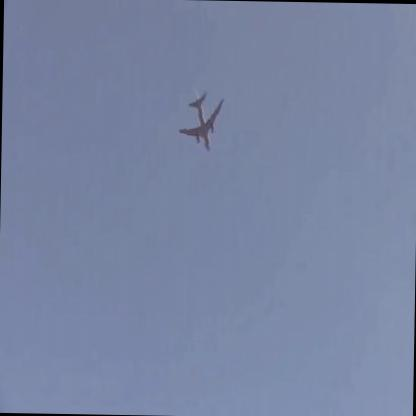plane: (178, 89, 225, 152)
